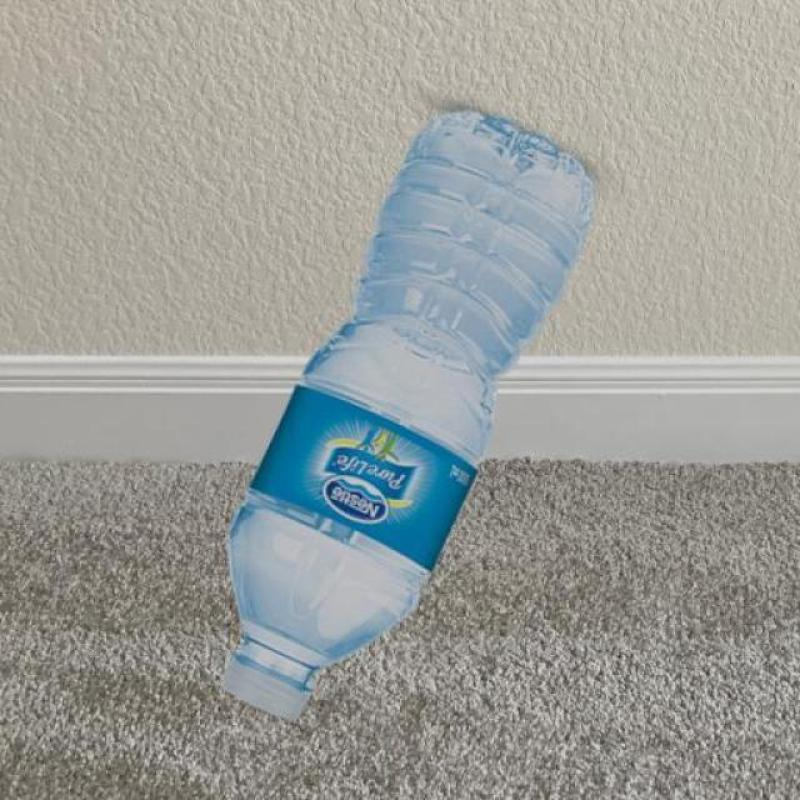botella: (220, 101, 594, 727)
